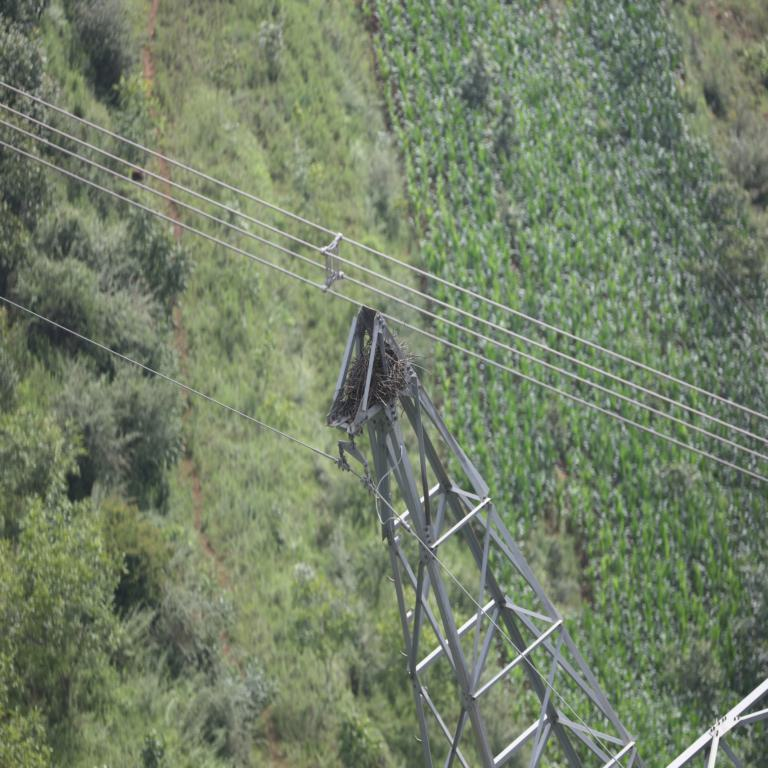nest: (340, 344, 409, 412)
